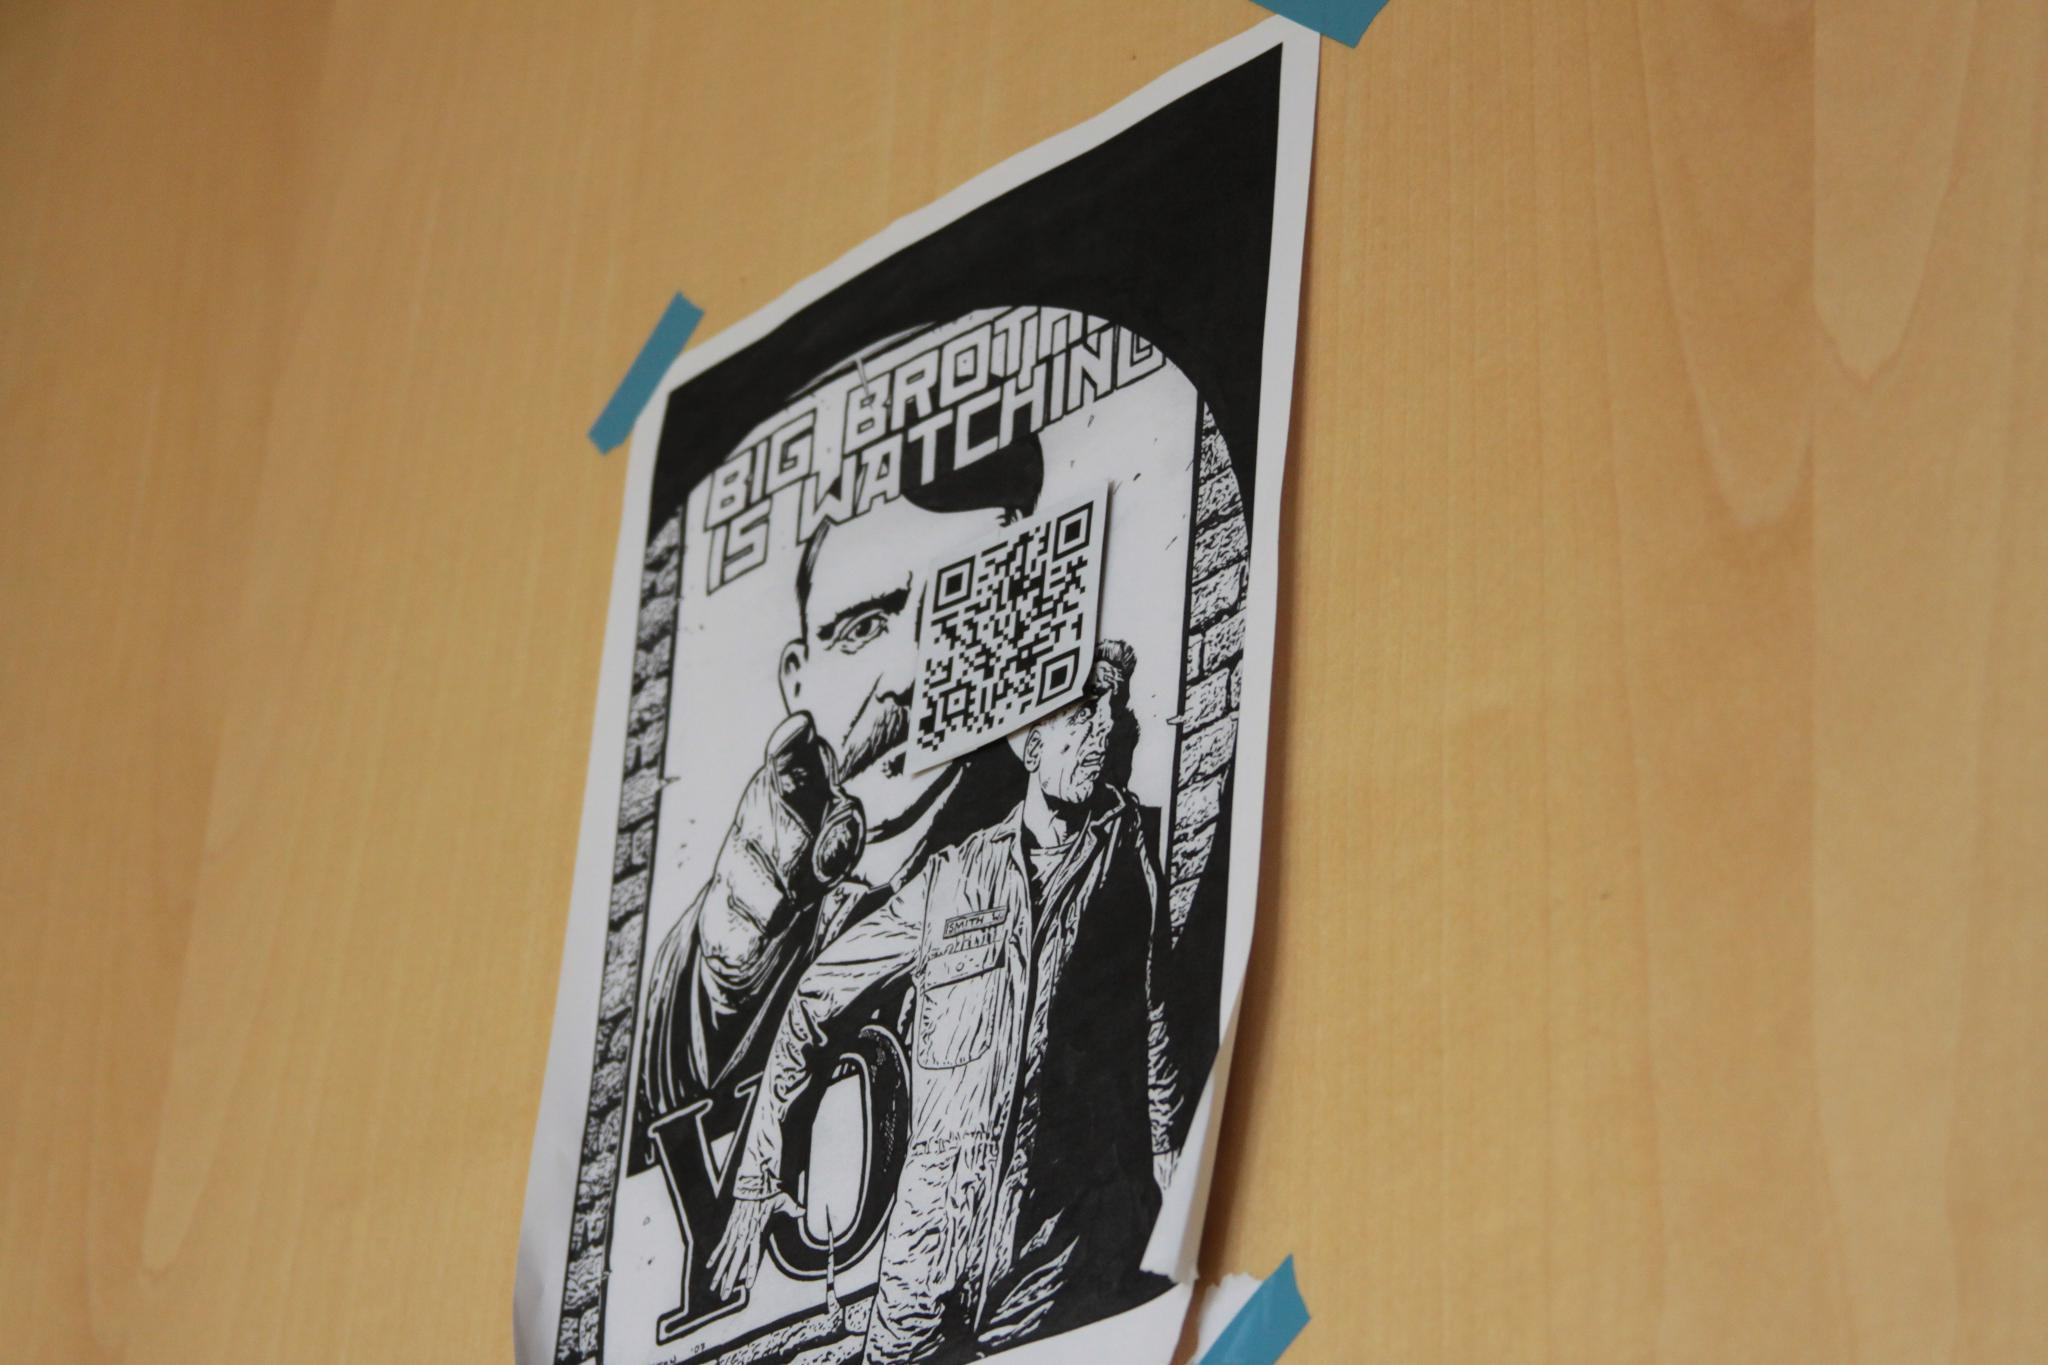Finder pattern: (1035, 641, 1084, 710), (1052, 497, 1096, 558), (932, 556, 978, 614)
